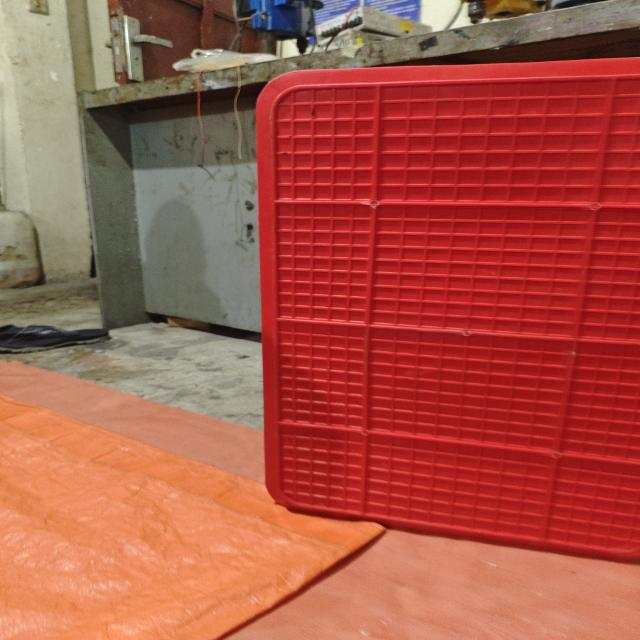red plastic box: (256, 57, 640, 561)
